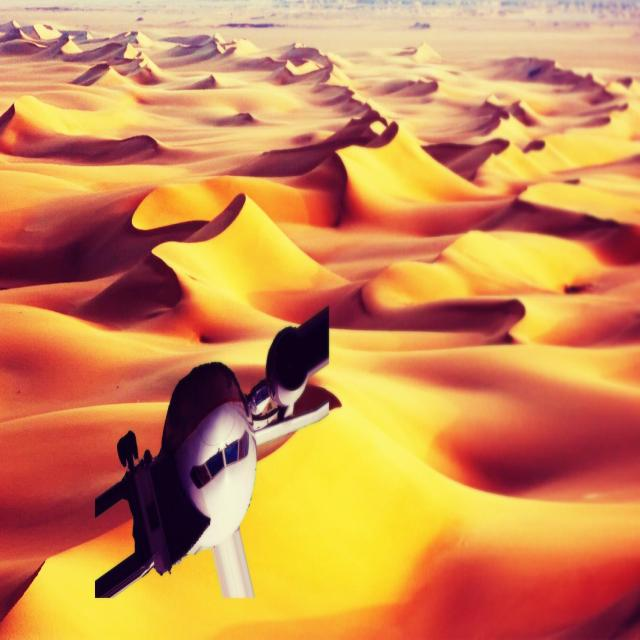airplane: (93, 303, 341, 601)
